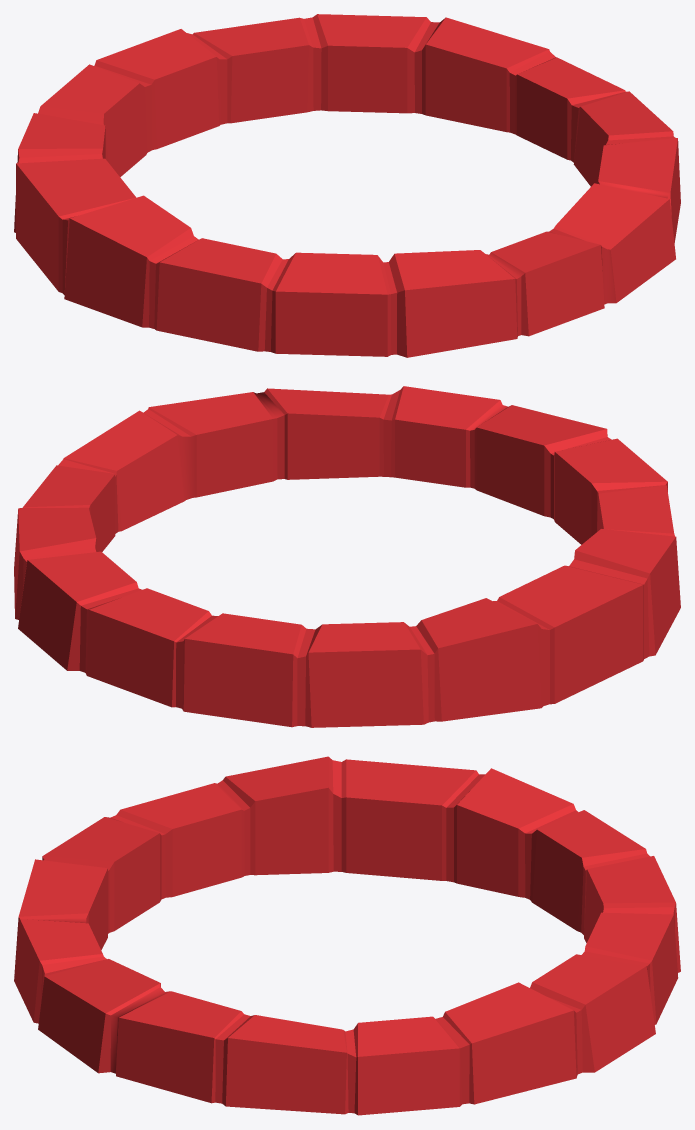
File: 红砖上圈.fbx
The picture shows the model from 3 angles, top to bottom: view 1: azimuth 30°, elevation 25°; view 2: azimuth 150°, elevation 25°; view 3: azimuth 270°, elevation 25°; orthographic projection.
Parts seen in each view (by area): view 1: S.stone.round.Backup; view 2: S.stone.round.Backup; view 3: S.stone.round.Backup.
Boxes of the visible parts, x1,y1,x2,y2 form: S.stone.round.Backup: [14, 14, 680, 357]; S.stone.round.Backup: [14, 386, 680, 727]; S.stone.round.Backup: [14, 756, 680, 1115].
Size of the model in its own units: 112 by 15.57 by 111.
